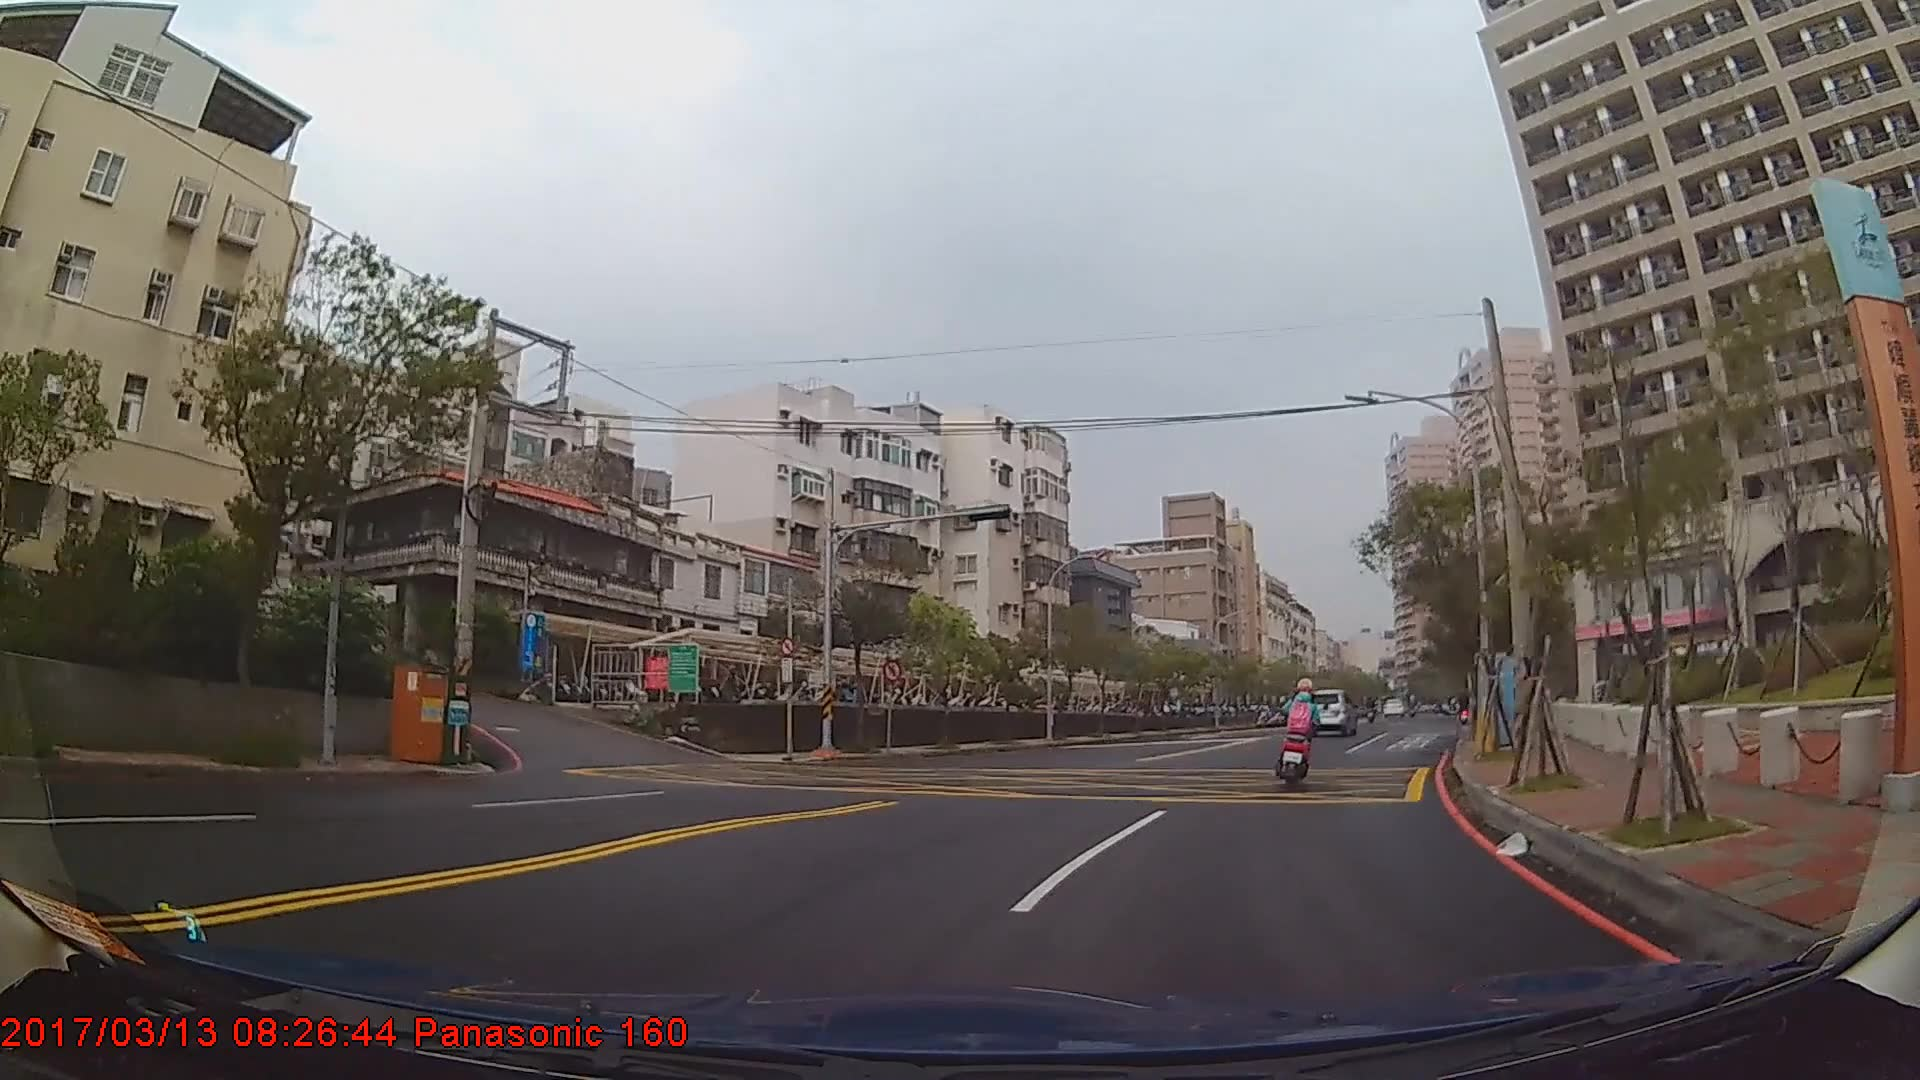rider: (1277, 679, 1325, 785)
vehicle: (1296, 687, 1360, 736)
